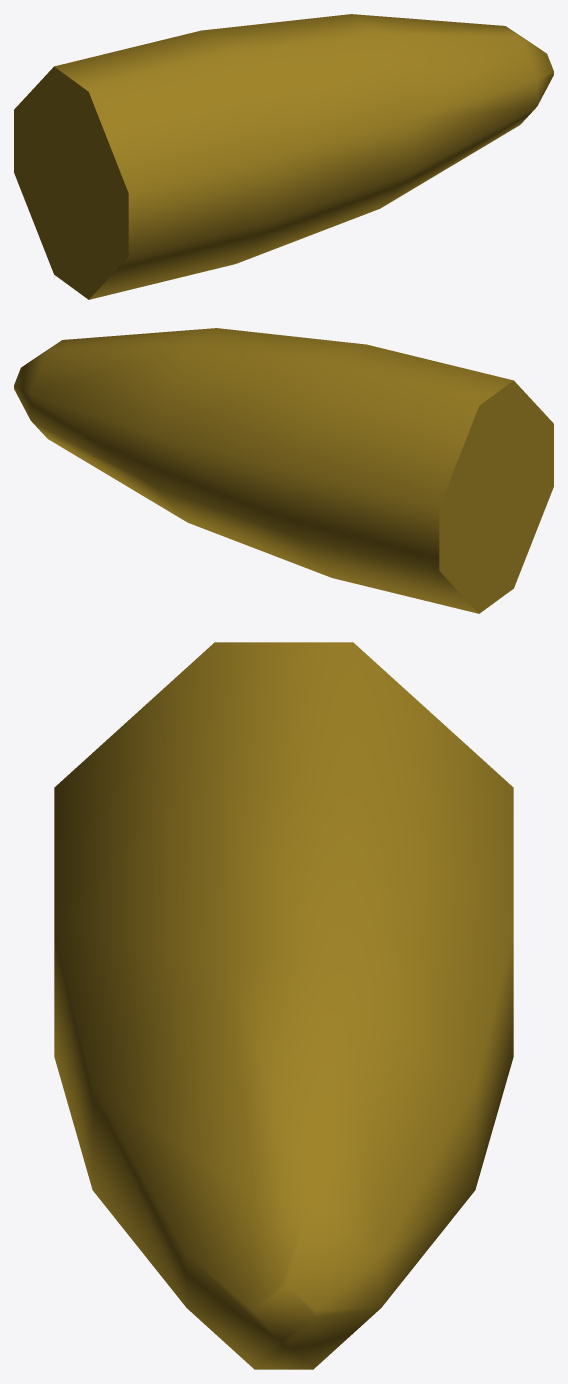
The model's file is bullet.glb.
3 views of the same model, one above another, from view 1: azimuth 30°, elevation 25°; view 2: azimuth 150°, elevation 25°; view 3: azimuth 270°, elevation 25° (orthographic). The views are drawn at different scales.
Visible parts, largest first — view 1: Cube.002; view 2: Cube.002; view 3: Cube.002.
Part boxes in pixels (x1,y1,x2,y2): Cube.002: (14,14,553,299); Cube.002: (14,328,553,613); Cube.002: (54,642,513,1369).
Size of the model in its own units: 4.77 by 2 by 2.
